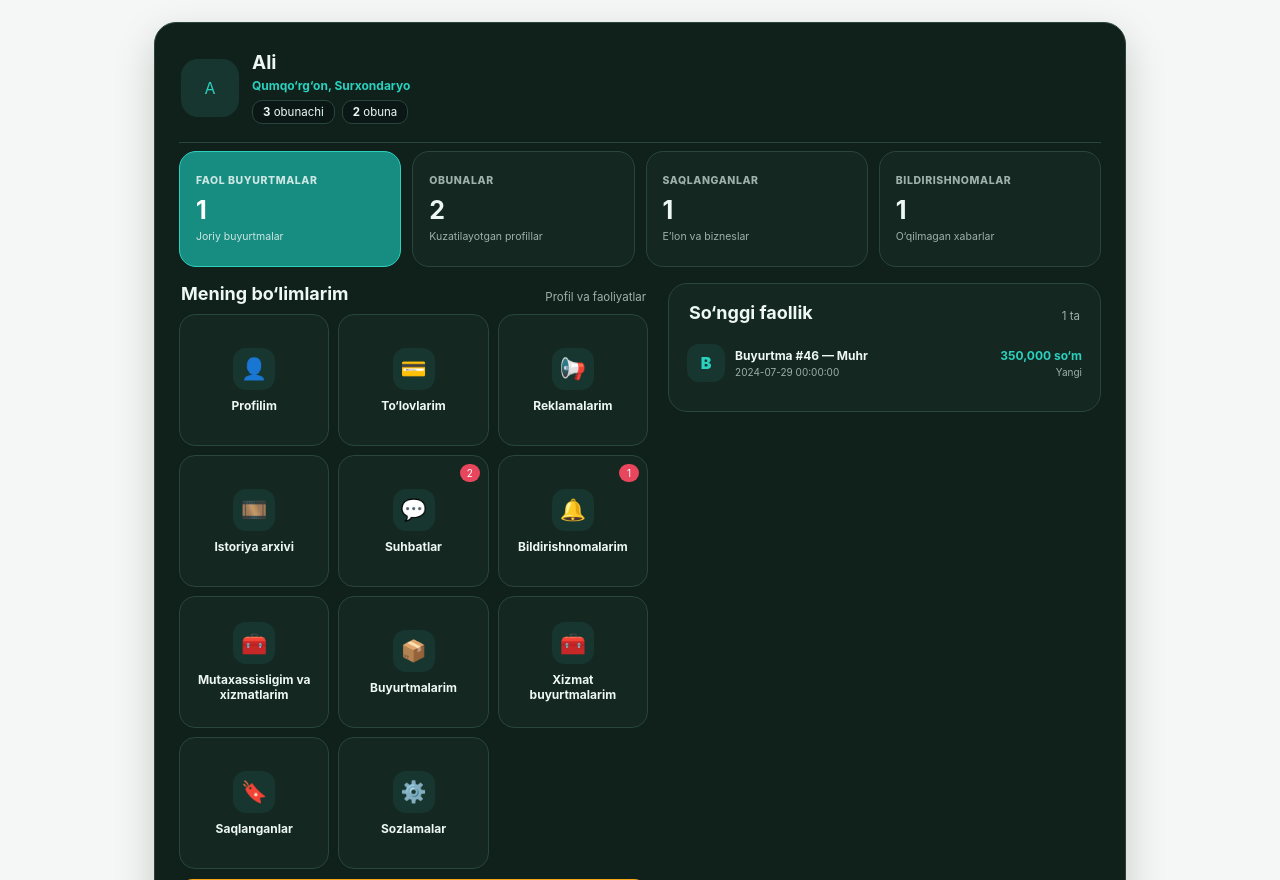
profile cabinets › opens typed To‘lovlarim instead of legacy cabinet payload
Step 1. Click the button "💳 To‘lovlarim" → (413, 380), box [338, 314, 489, 446]
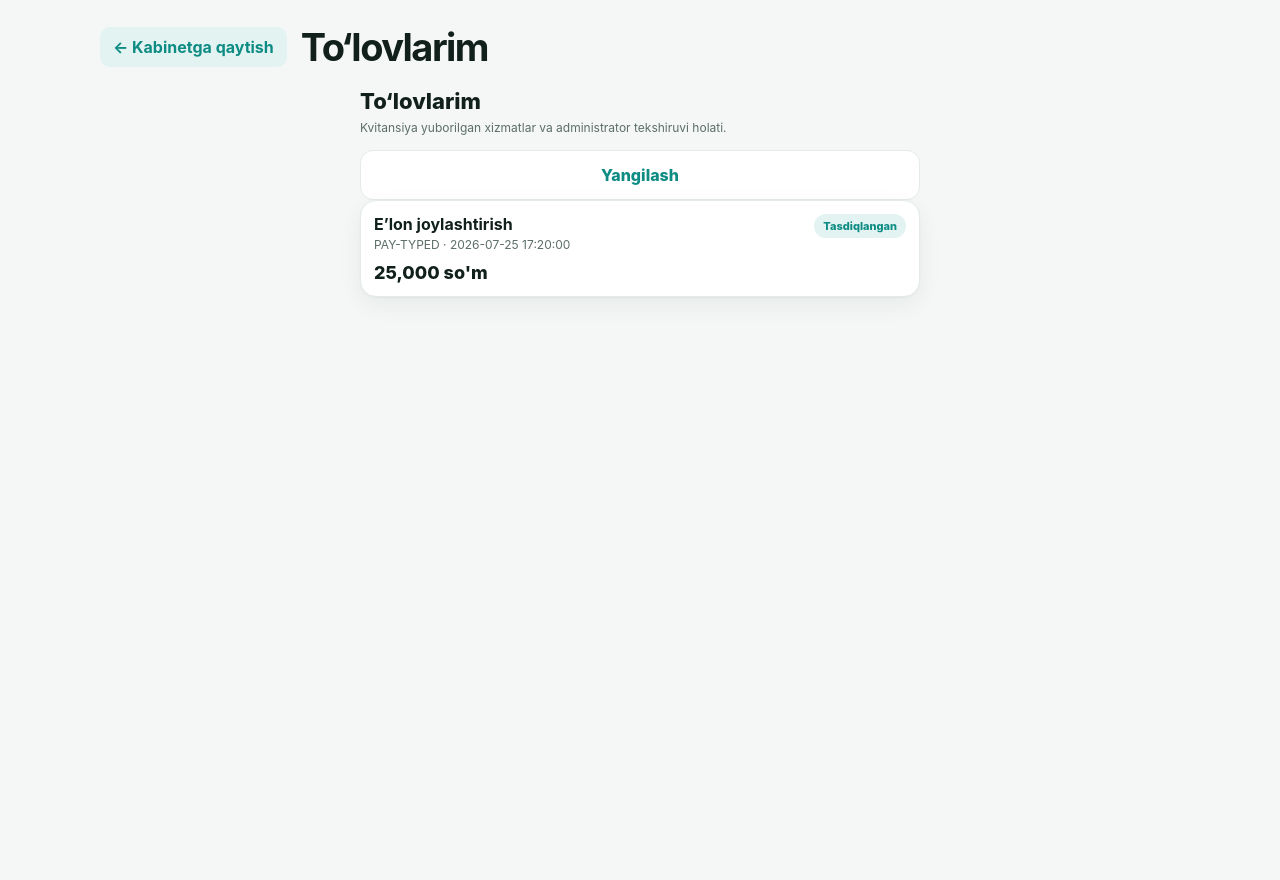
Now the text "PAY-TYPED · 2026-07-25 17:20:00" is shown, box [374, 237, 570, 252]
